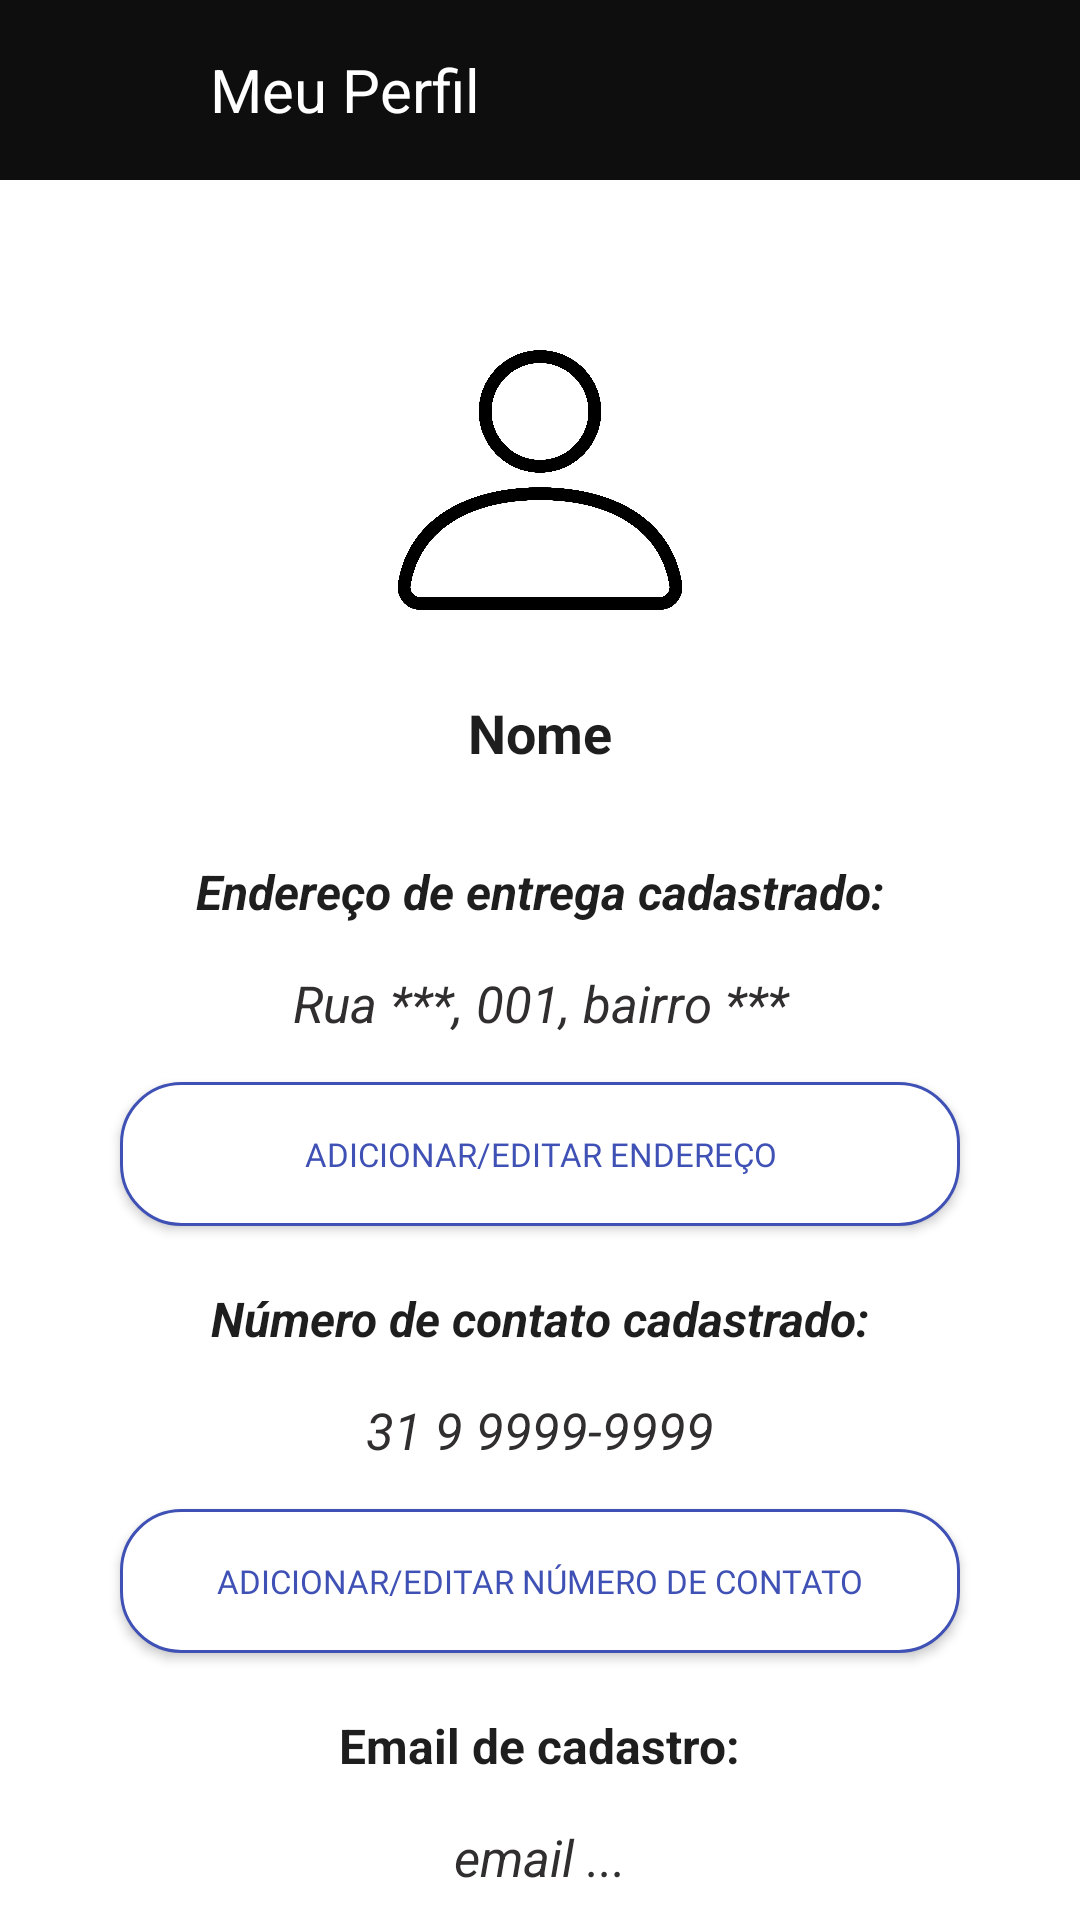

Locate icon controls on the screen. Image size 1080×1920, boxes as (x1, y1, x2, y2).
accountimg: (398, 350, 682, 610)
